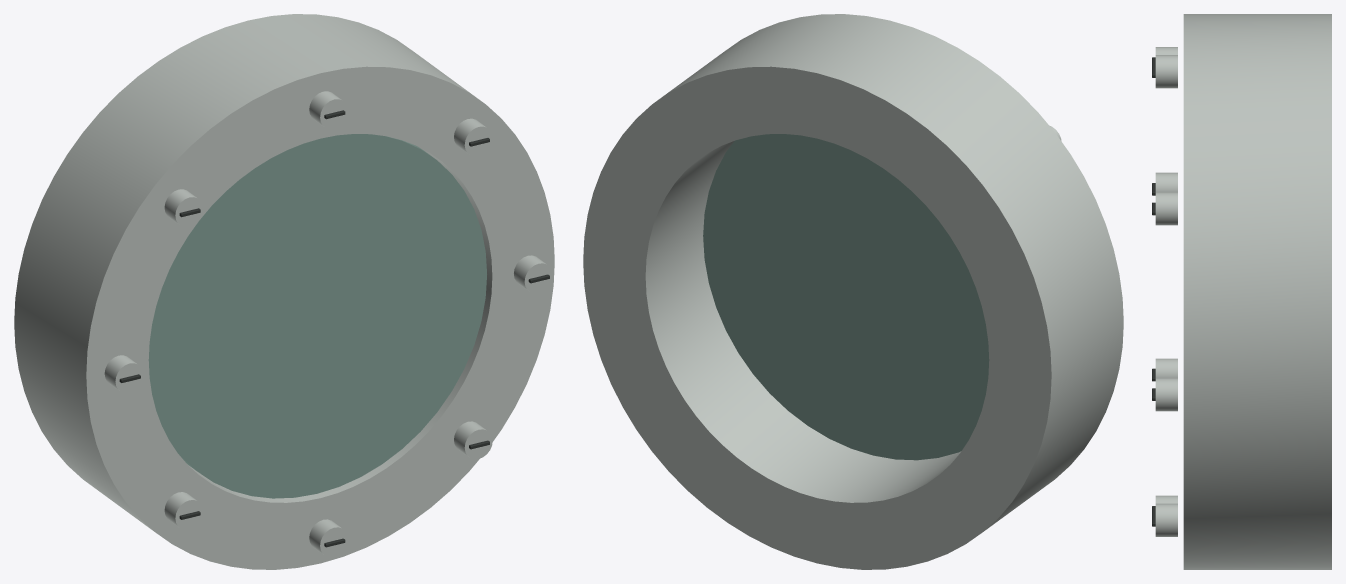
Rendered from spacecraft-thermal-test-chamber-optical-viewport-e54d1205__32040.glb.
3 views of the same model, side by side, from view 1: azimuth 30°, elevation 25°; view 2: azimuth 150°, elevation 25°; view 3: azimuth 270°, elevation 25° (orthographic). The views are drawn at different scales.
Visible parts, largest first — view 1: optical-viewport; view 2: optical-viewport; view 3: optical-viewport.
Part boxes in pixels (x1=…): optical-viewport: x1=14, y1=14, x2=554, y2=569; optical-viewport: x1=583, y1=14, x2=1123, y2=569; optical-viewport: x1=1152, y1=14, x2=1331, y2=569.
Bounding box in the file's own units: 0.3 × 0.3 × 0.097.
